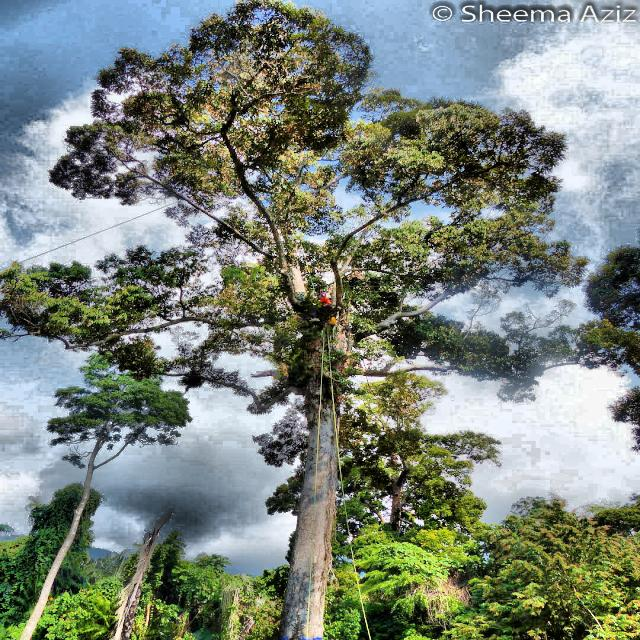arvore: (282, 321, 352, 639)
